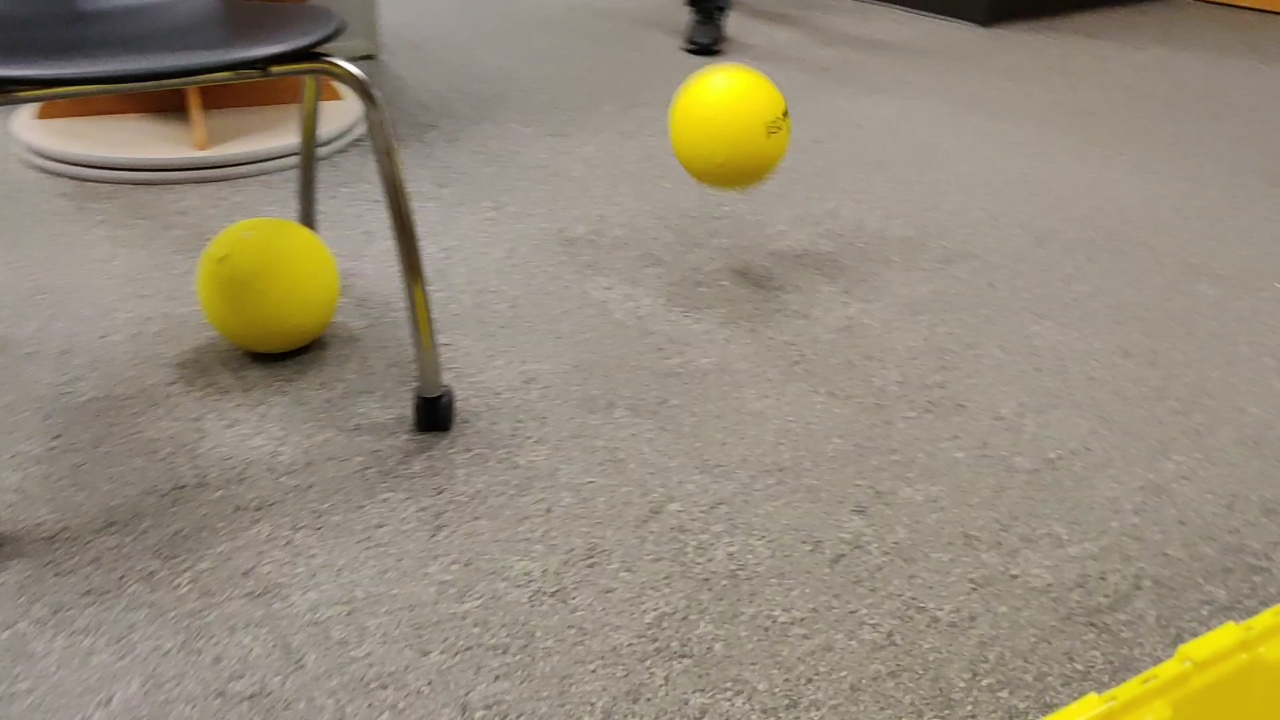Ball: (194, 217, 344, 358), (664, 61, 791, 189)
